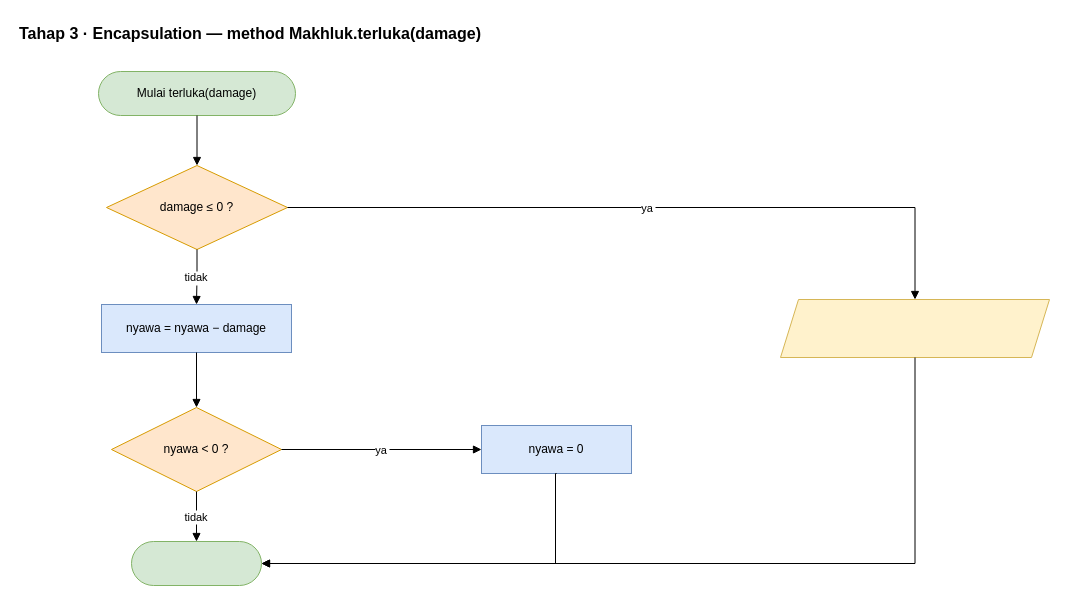
Image size: 1067x603. Some labels were removed from this diagram. The centre of each missing label's shape, as x and y in pixels:
Selesai: pixel 196 563
Tampil: "Damage harus lebih dari 0": pixel 915 328
